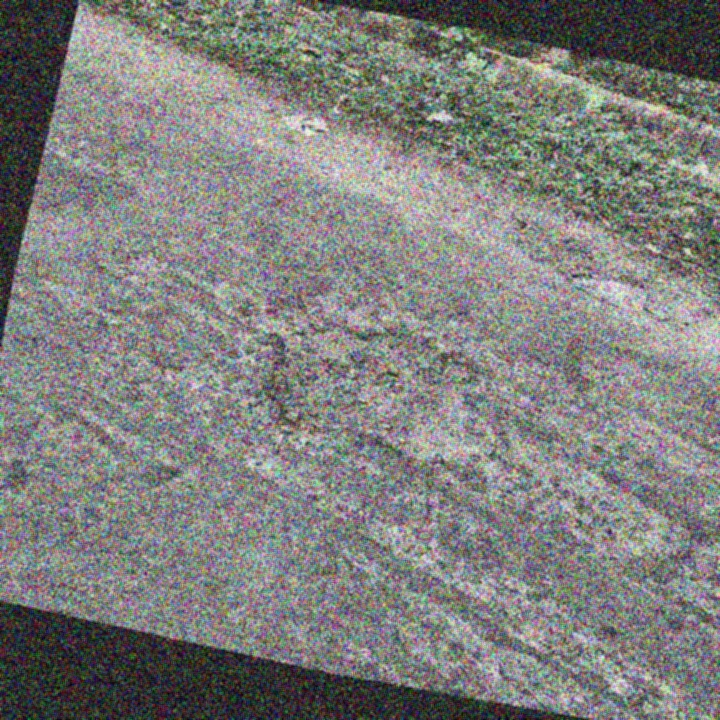pothole: (212, 289, 510, 477)
